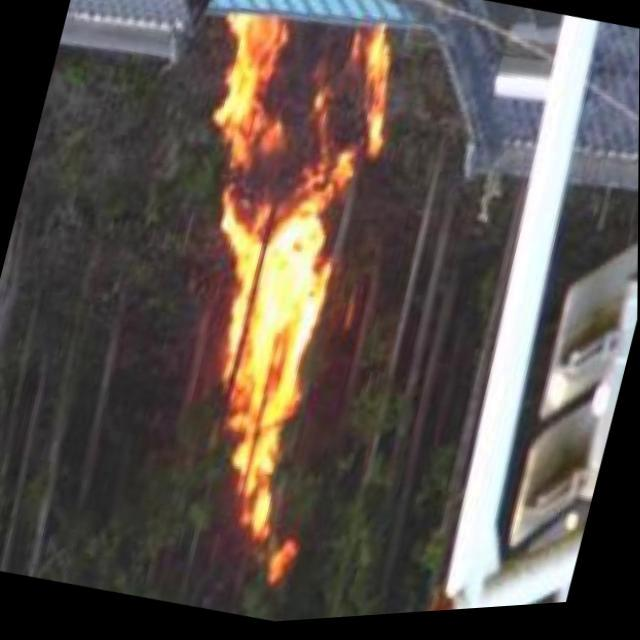fire: (100, 0, 410, 580)
